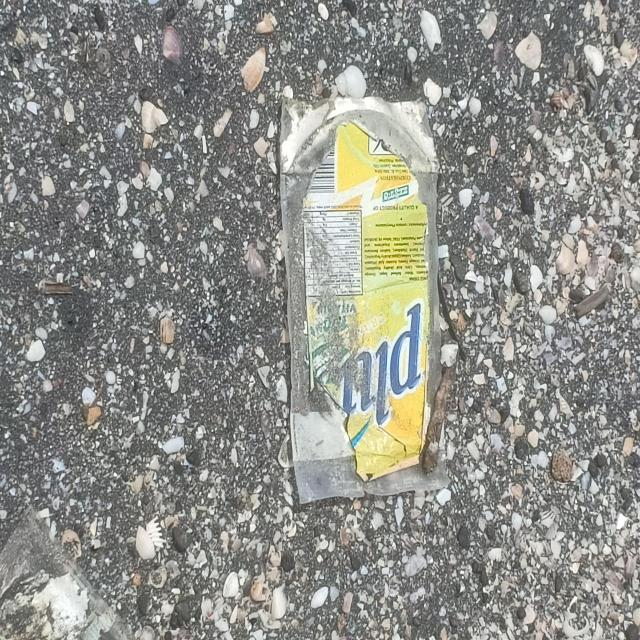plastic_waste: (279, 93, 455, 509)
